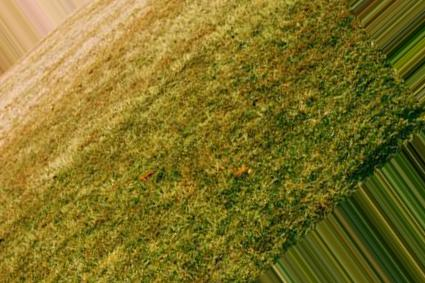patch: (51, 47, 98, 70), (16, 79, 57, 98), (82, 14, 123, 28), (39, 150, 80, 164), (71, 122, 97, 138), (23, 61, 43, 71), (2, 89, 13, 107), (93, 32, 115, 39), (58, 32, 65, 39)
